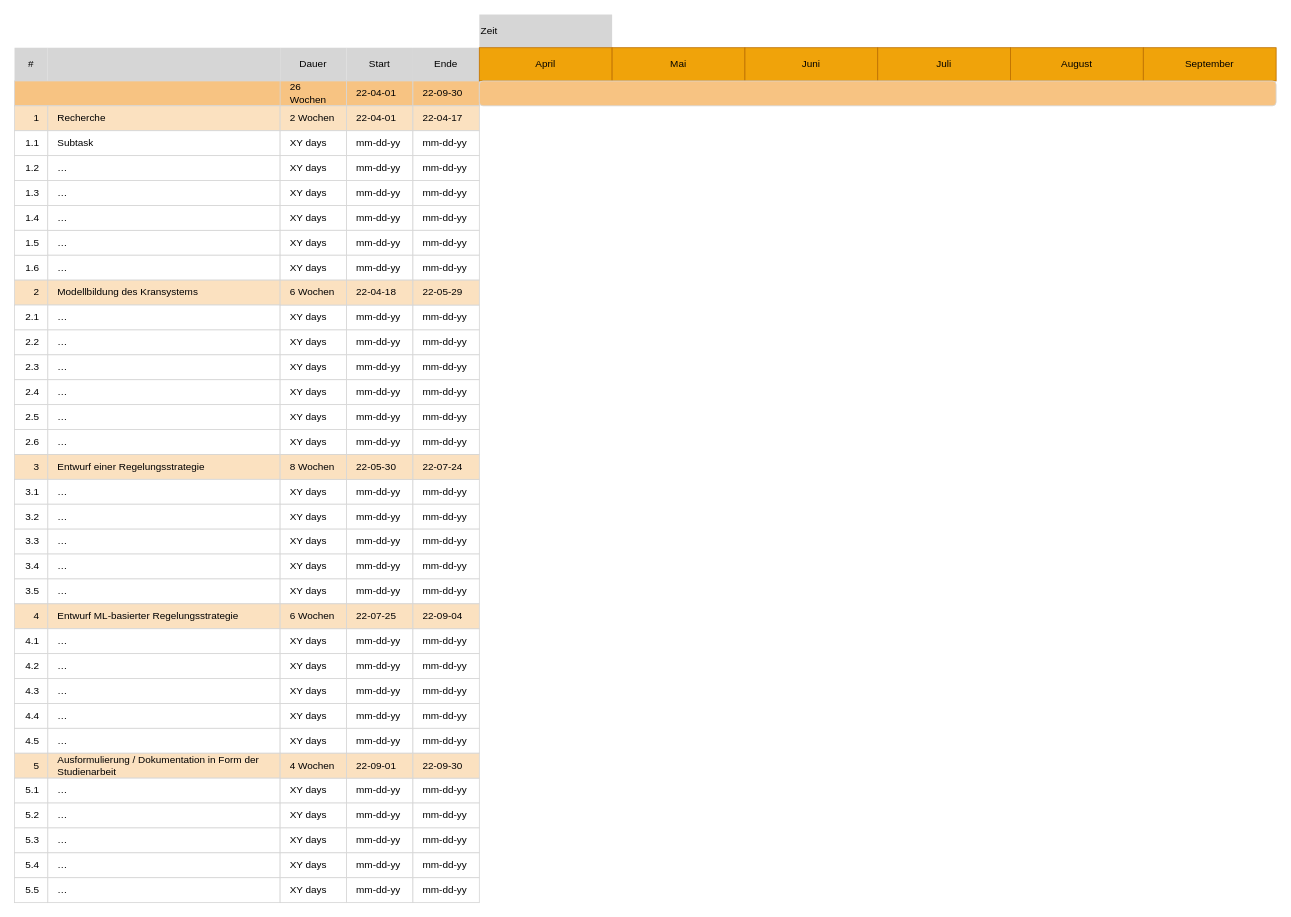
Some shapes in this 1291 by 917 pixel diagram are drawn without their labels. Each missing label, with the box of its shape:
Aufgabe: (47, 47, 280, 81)
Vollständige Studienarbeit: (14, 80, 479, 106)
